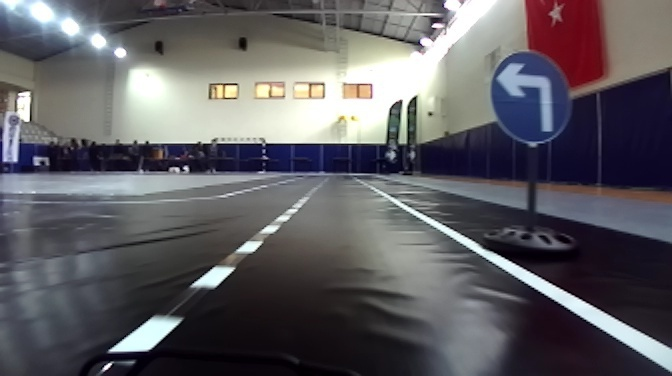sola_donus: (478, 48, 575, 150)
